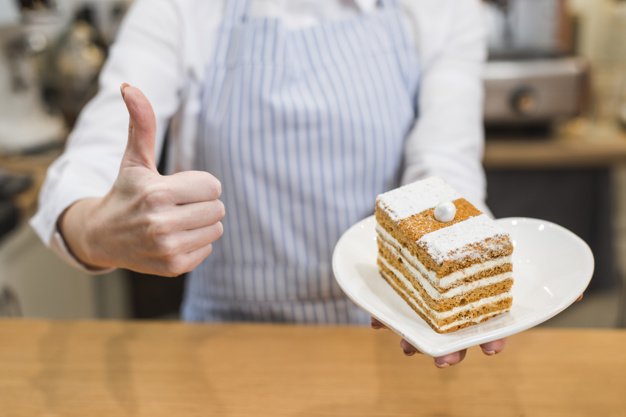thumbsup: (120, 83, 226, 278)
